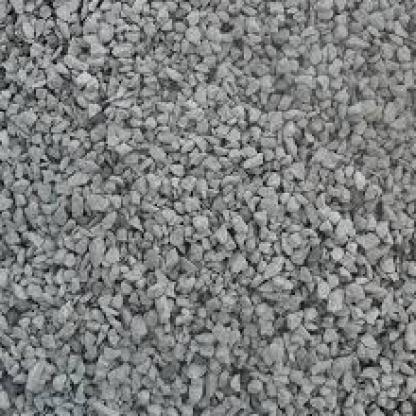Igneous_Diorite: (41, 43, 374, 352)
